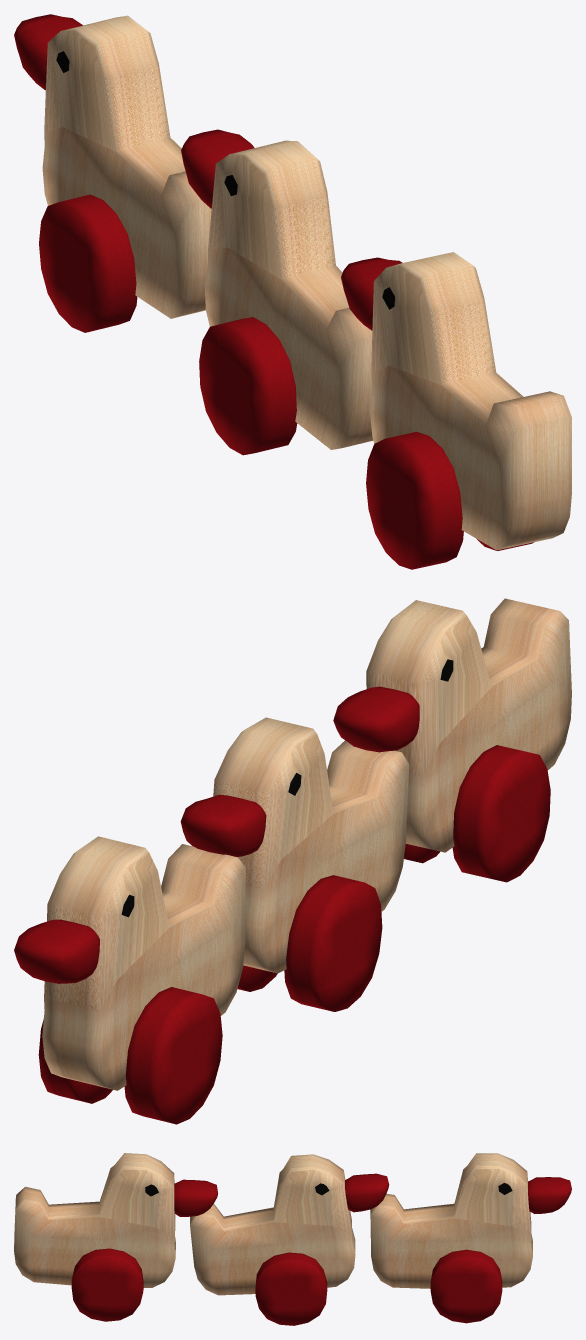
The model's file is toy2.fbx.
The picture shows the model from 3 angles, top to bottom: view 1: azimuth 30°, elevation 25°; view 2: azimuth 150°, elevation 25°; view 3: azimuth 270°, elevation 25°; orthographic projection. The views are drawn at different scales.
Parts seen in each view (by area): view 1: toy2_2; view 2: toy2_2; view 3: toy2_2.
Part boxes in pixels (x1,y1,x2,y2): toy2_2: (14,14,571,569); toy2_2: (14,598,571,1124); toy2_2: (14,1153,571,1325).
Bounding box in the file's own units: 399 × 867 × 2894.
